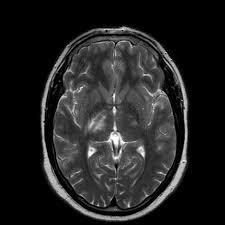Normal_Brain: (26, 3, 213, 225)
